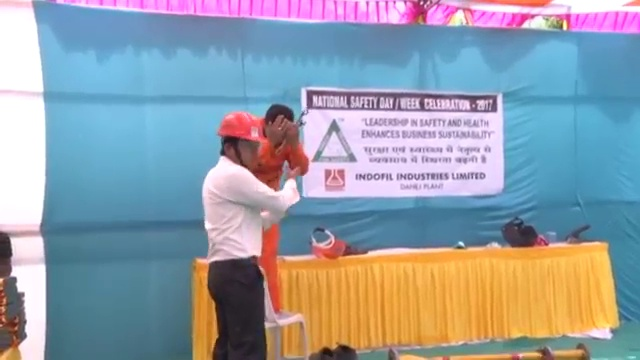helmet: (216, 110, 264, 146)
helmet_off: (265, 101, 300, 136)
helmet_on: (214, 109, 264, 169)
person: (201, 108, 302, 360), (251, 100, 312, 316)
